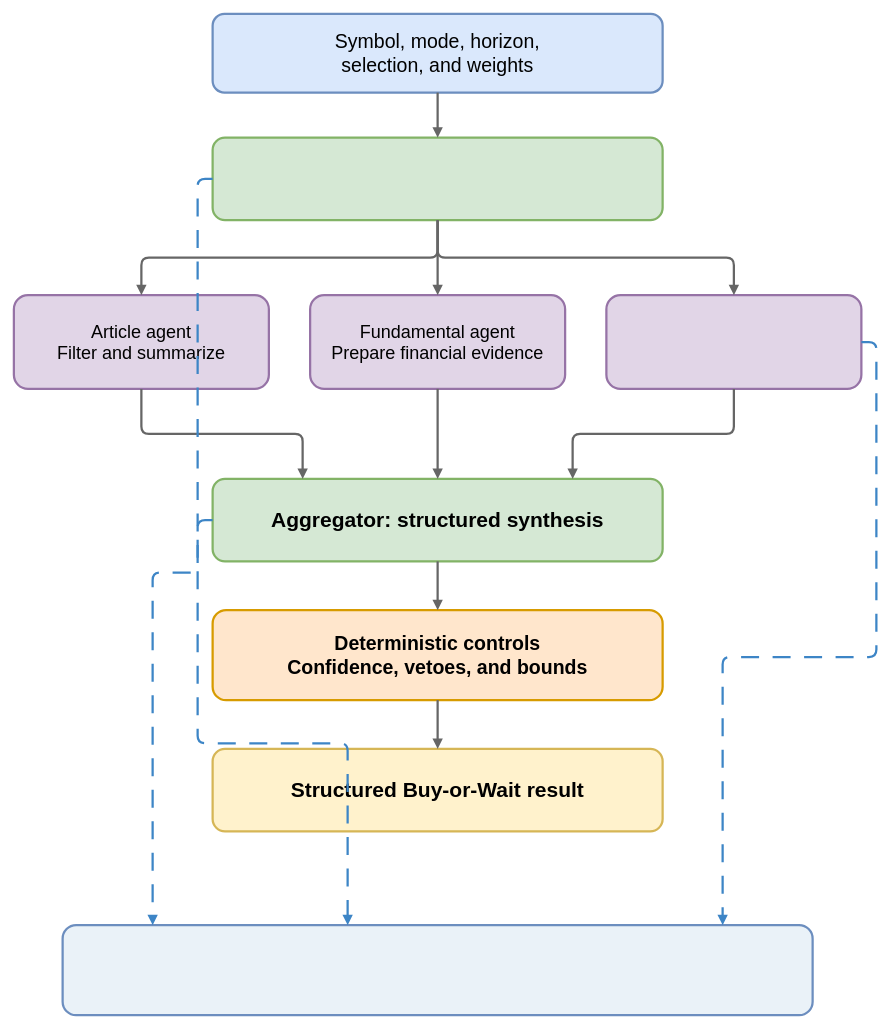
Some shapes in this 896 by 1029 pixel diagram are drawn without their labels. The shapes that lost their labels are listed below. From the top down, each one's box as (x1, y1, x2, y2) in pixels, then its label:
(211, 136, 663, 221): Orchestrator planning node
(605, 294, 862, 390): Technical agent Calculate and score signals
(61, 924, 813, 1016): Shared AgentState Plan, source results, final output, and error
